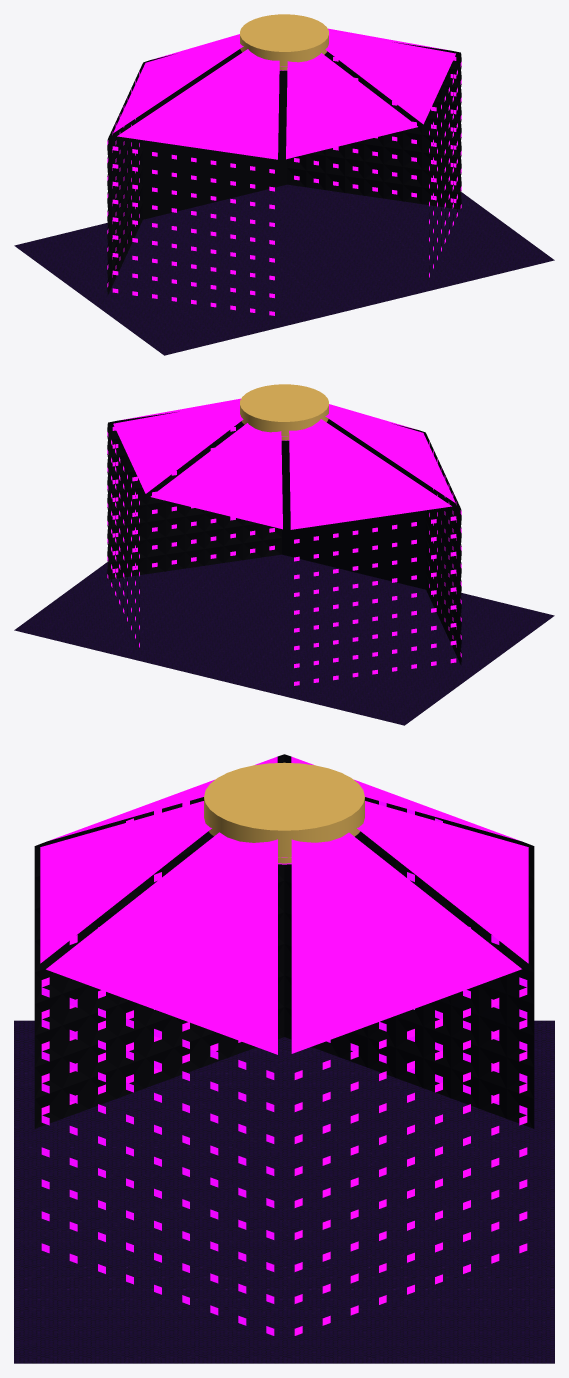
The model's file is structure.gltf.
3 views of the same model, one above another, from view 1: azimuth 30°, elevation 25°; view 2: azimuth 150°, elevation 25°; view 3: azimuth 270°, elevation 25° (orthographic). The views are drawn at different scales.
Parts seen in each view (by area): view 1: wall2, floor, Ceiling Vent; view 2: wall2, floor, Ceiling Vent; view 3: floor, wall2, Ceiling Vent.
Part boxes in pixels (x1,y1,x2,y2): wall2: (107, 28, 461, 315); floor: (14, 184, 554, 355); Ceiling Vent: (240, 14, 328, 70); wall2: (107, 398, 461, 685); floor: (14, 554, 554, 725); Ceiling Vent: (240, 384, 328, 440); floor: (14, 1020, 554, 1363); wall2: (34, 754, 534, 1335); Ceiling Vent: (204, 762, 364, 864).
Size of what is drawn, in the model's own units: 96 by 51.79 by 64.
4 materials, 1 textured.
